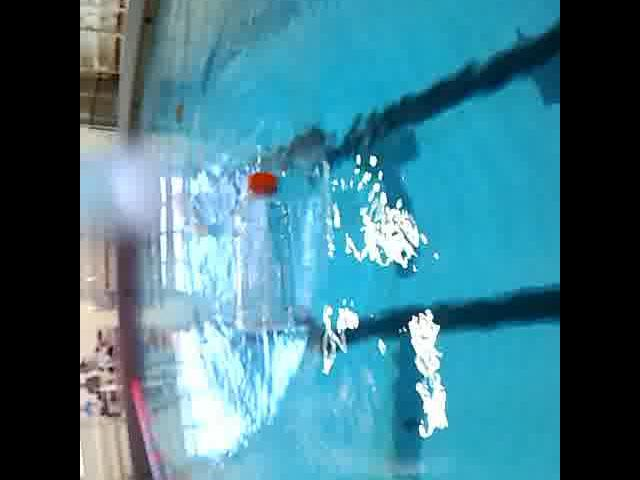Bottle: (229, 166, 297, 336)
